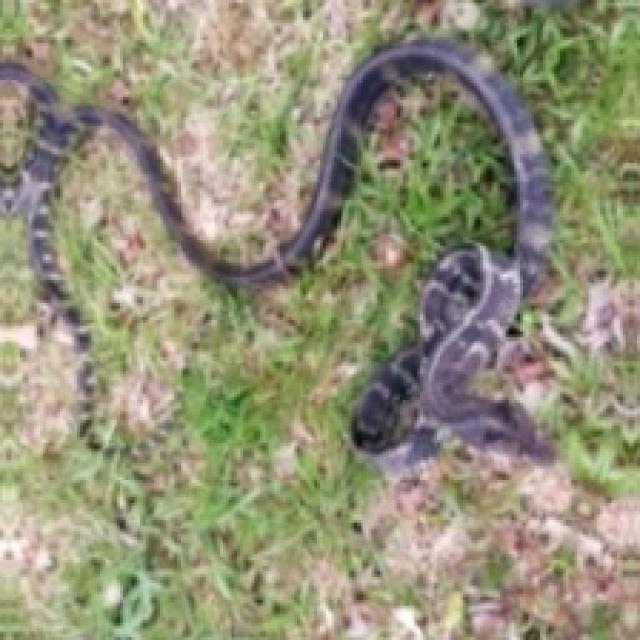dog-toothed cat snake: (0, 37, 551, 474)
